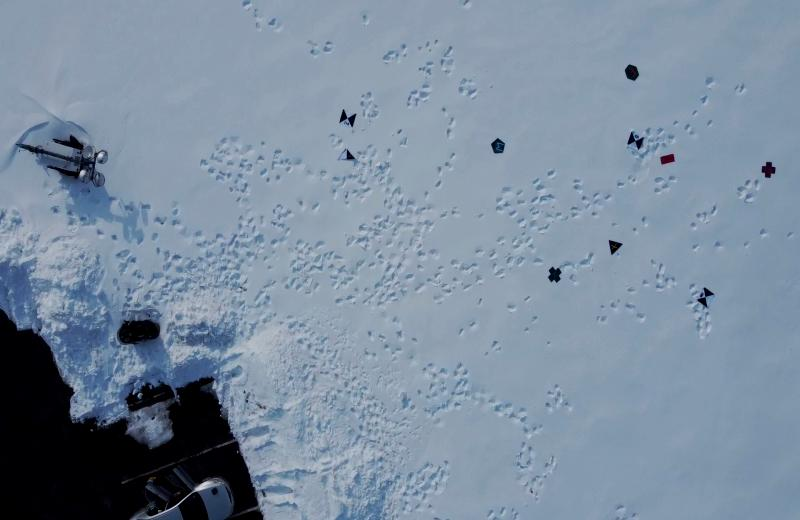Cross: (760, 160, 776, 178), (546, 266, 562, 284)
Hexagon: (624, 64, 640, 83)
Pentagon: (489, 135, 507, 155)
Rectangle: (659, 152, 676, 166)
Triangle: (607, 236, 623, 257)
